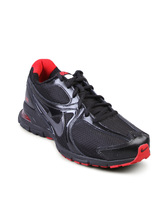shoes: (10, 57, 154, 170)
